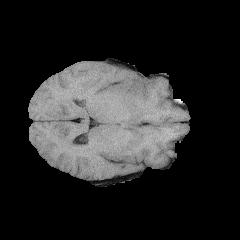glioma: (114, 76, 175, 126)
